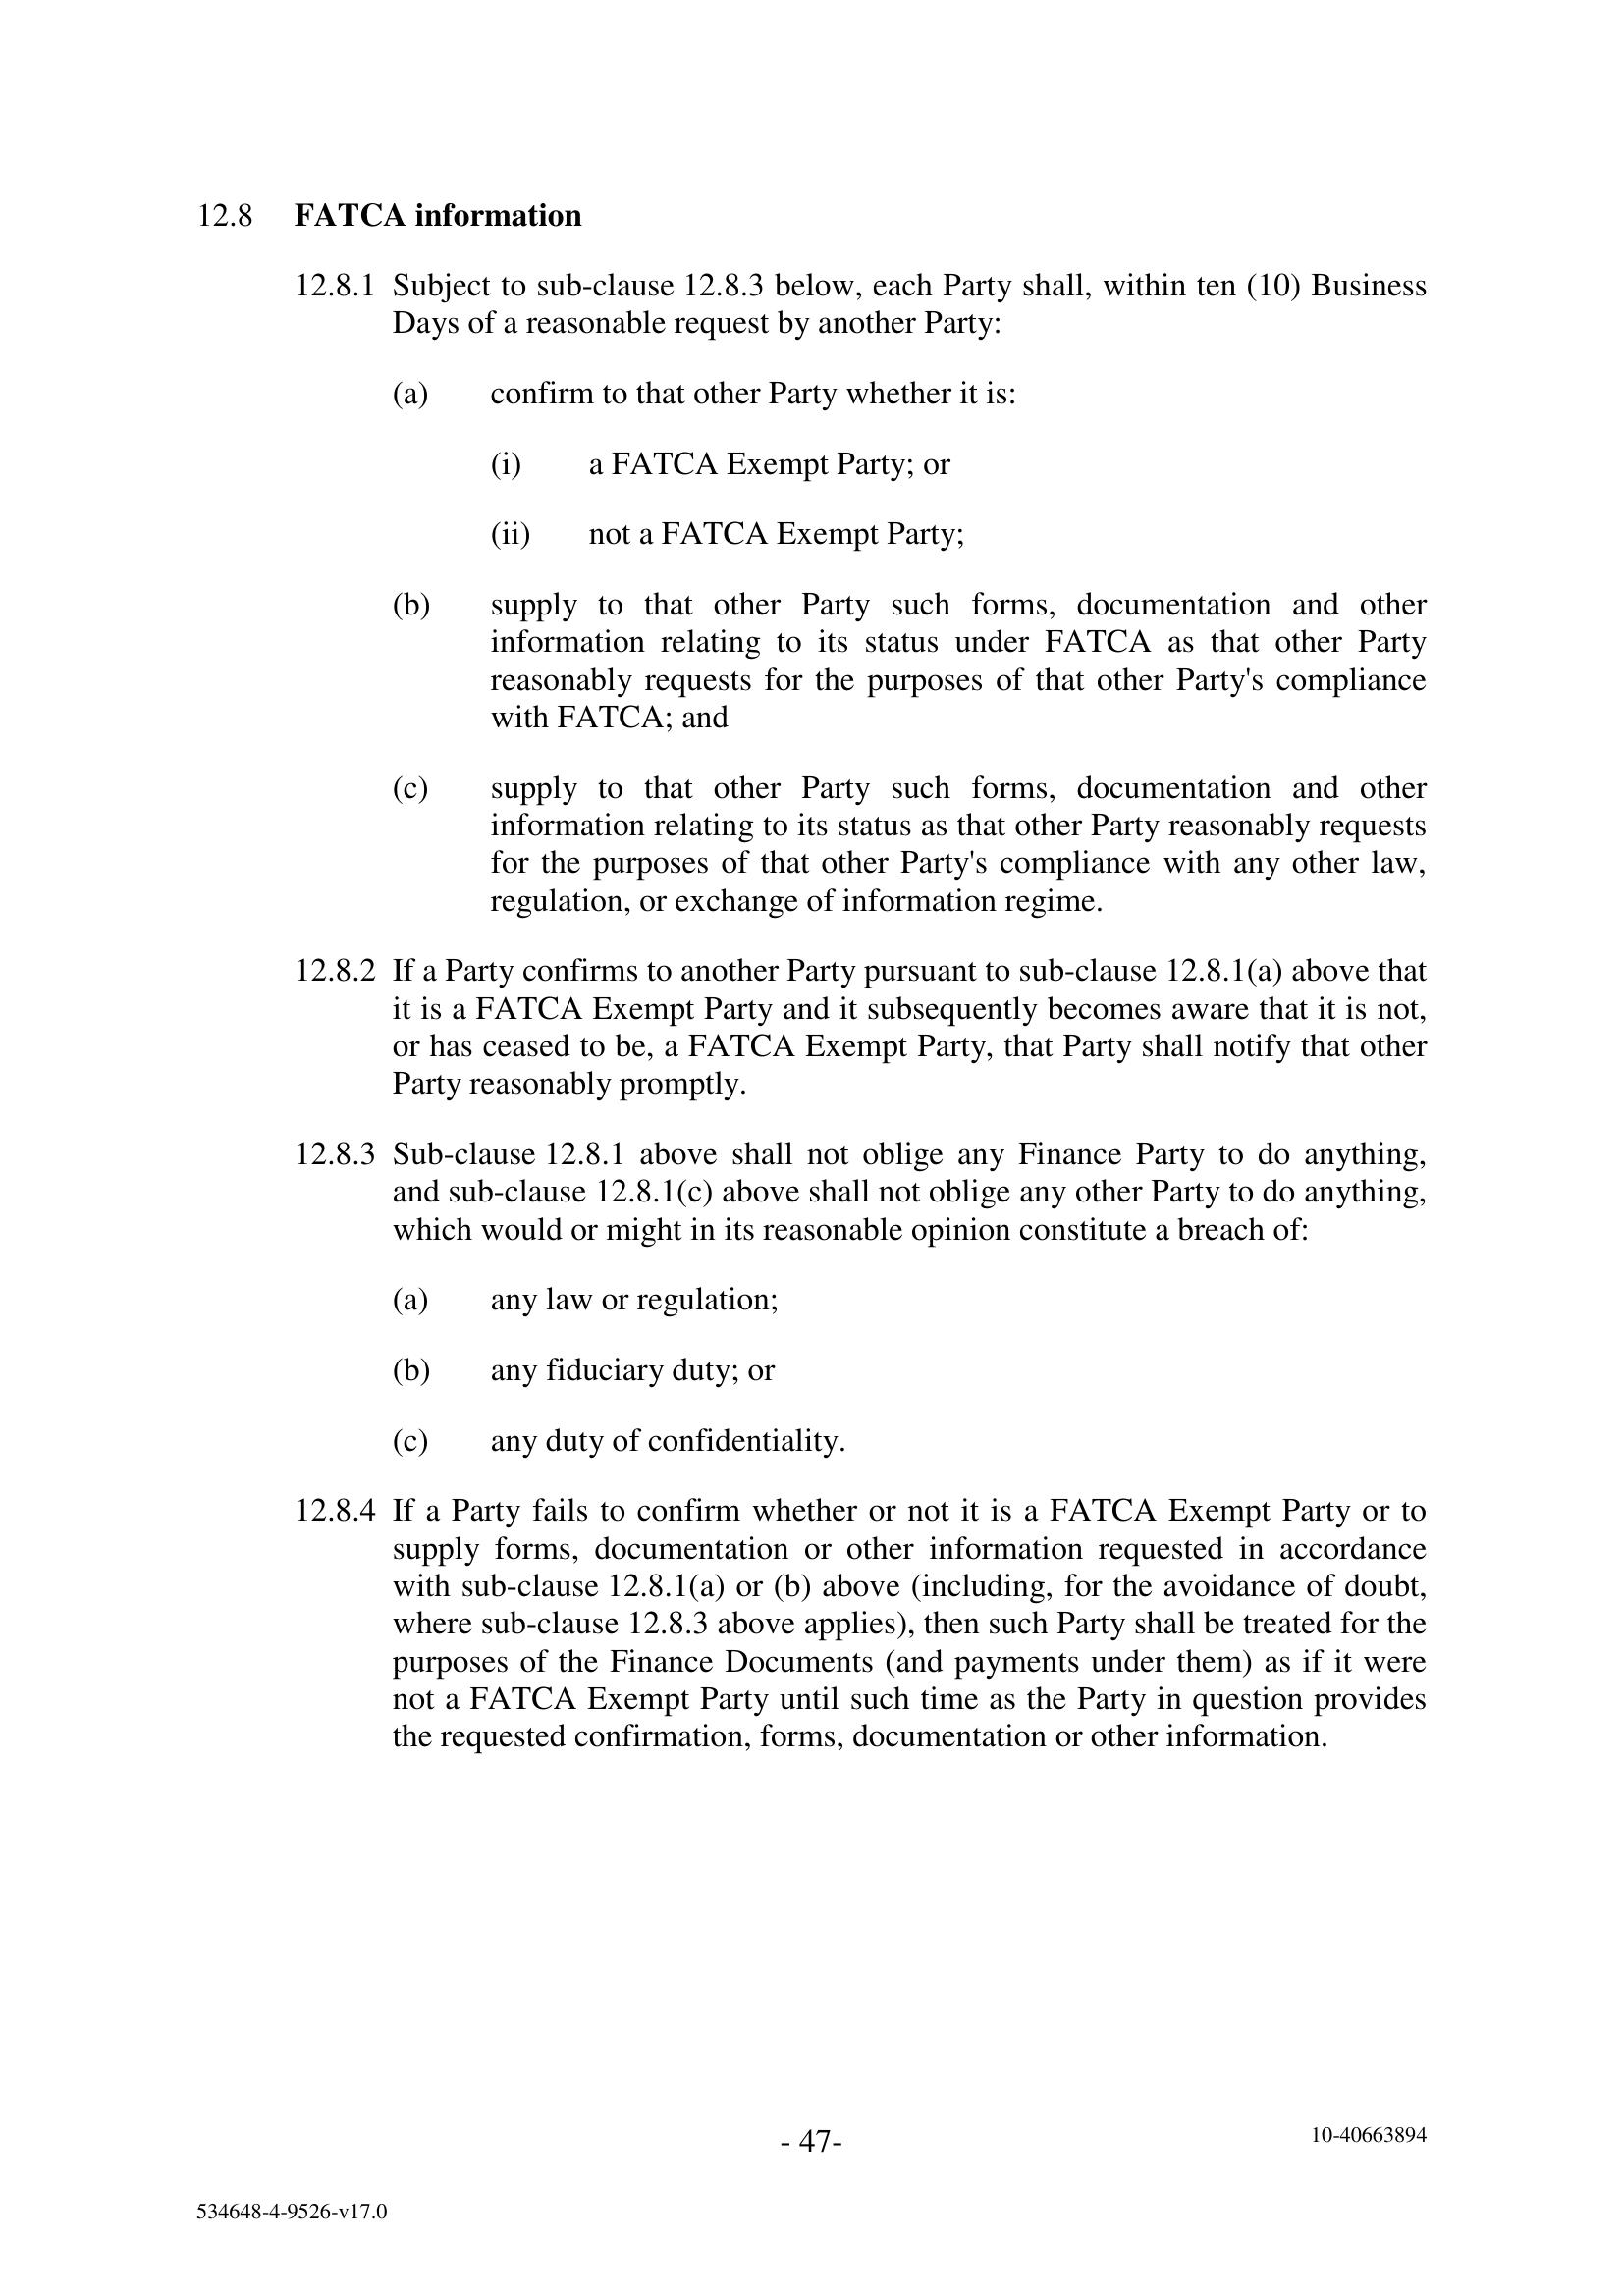pageno: (715, 2078, 903, 2213)
tag: (90, 2147, 508, 2275), (1189, 2085, 1551, 2187)
